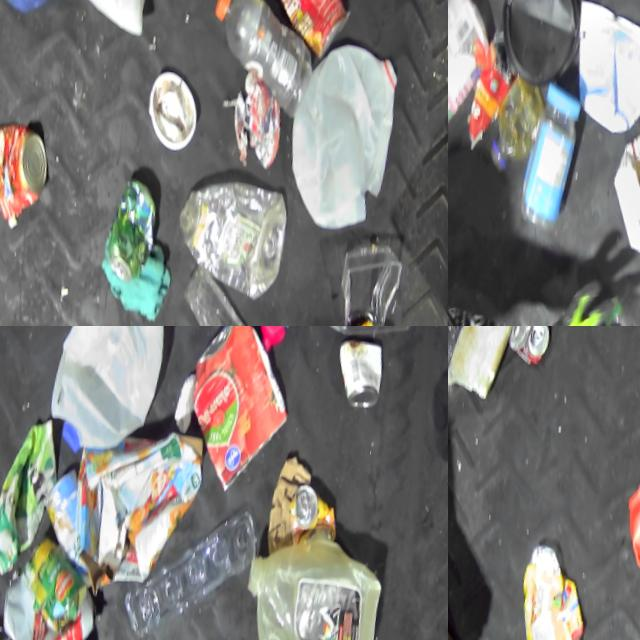can: (169, 326, 301, 500), (12, 527, 88, 637), (95, 166, 158, 282), (0, 113, 51, 230), (264, 0, 359, 54), (325, 326, 385, 404), (277, 472, 336, 540), (298, 294, 399, 326), (502, 326, 555, 367), (17, 623, 88, 640)
milk_jug: (268, 16, 406, 234), (32, 326, 175, 470), (222, 516, 386, 640), (589, 76, 640, 270)
non_white_jug: (51, 407, 208, 615), (0, 404, 66, 586), (603, 385, 640, 613)
plastic_bottle: (160, 158, 287, 298), (197, 0, 319, 112)
